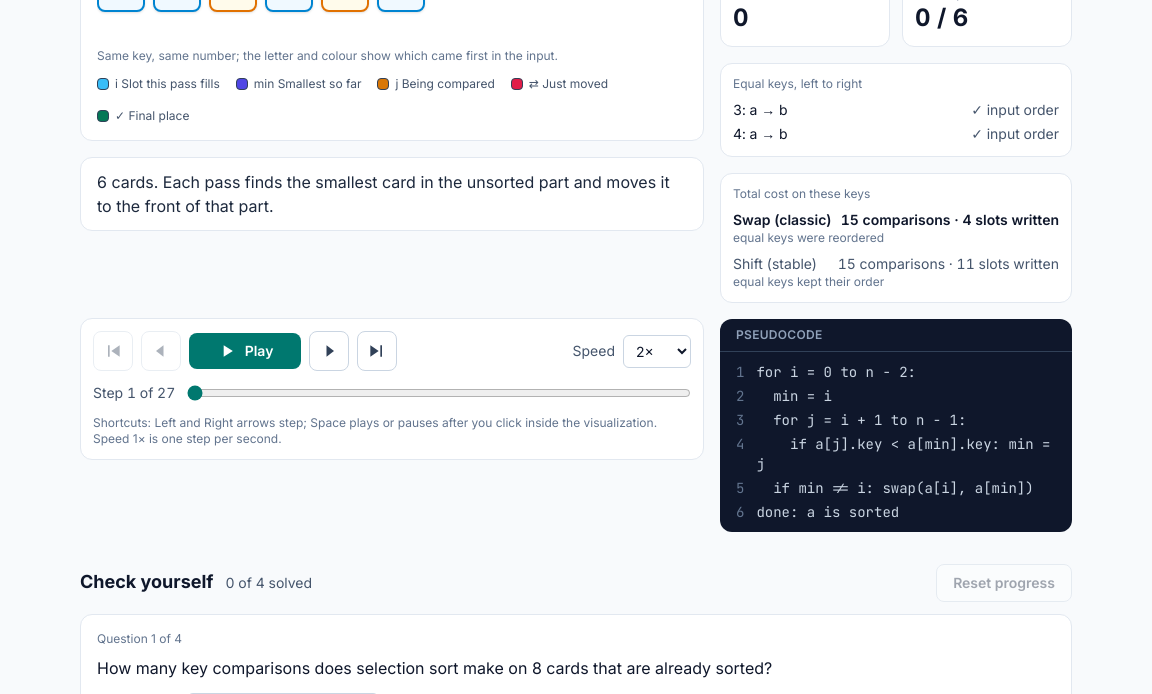
Test: selection sort and stability lesson › starts on the first pass and scans for the minimum
(page scrolled)
What coordinates should you click on to do the following:
click the button named "Next step"
I would click on:
 (329, 351)
Its box is [309, 331, 349, 371].
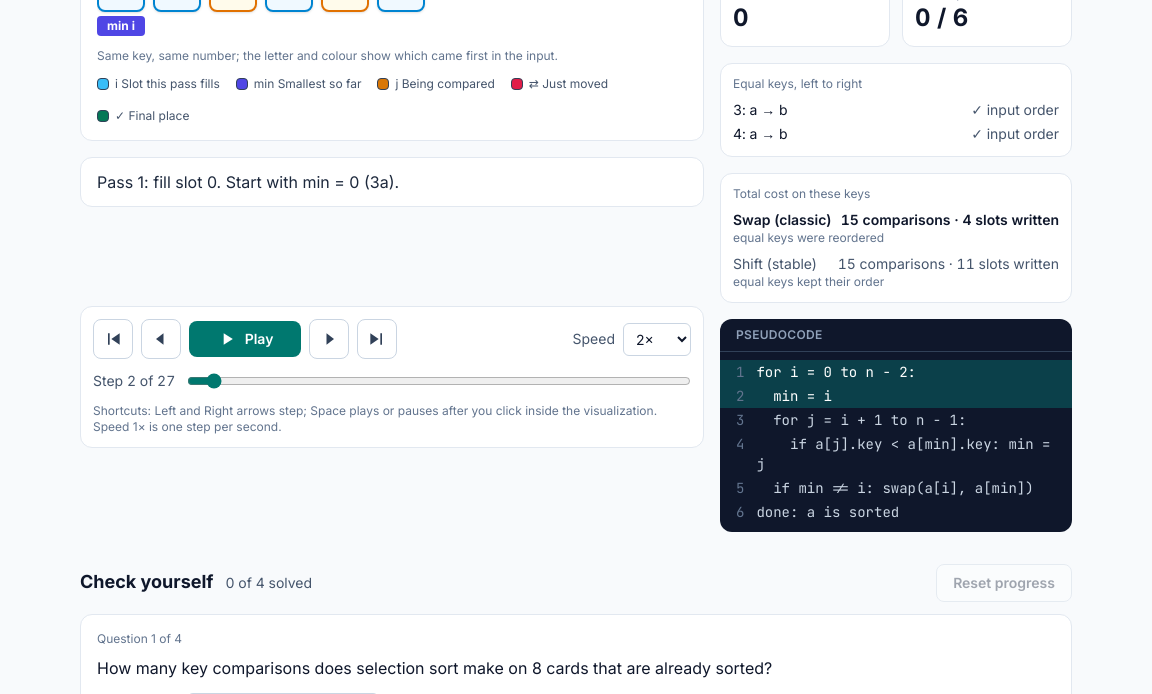
Expected: the text "Pass 1: fill slot 0. Start with min = 0 (3a)." is shown, [80, 157, 704, 207]
What coordinates should you click on to do the following:
click the button named "Next step"
I would click on:
 (329, 339)
Its box is [309, 319, 349, 359].
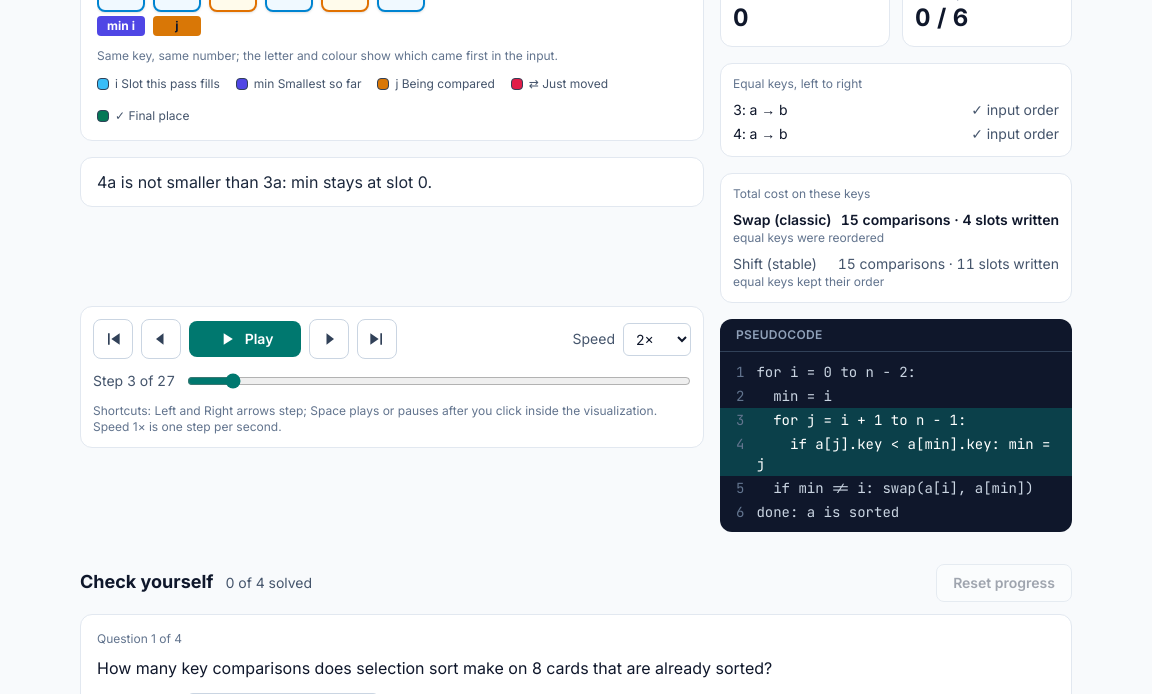
Expected: the text "4a is not smaller than 3a: min stays at slot 0." is shown, [80, 157, 704, 207]
What coordinates should you click on to do the following:
click the button named "Next step"
I would click on:
 (329, 339)
Its box is [309, 319, 349, 359].
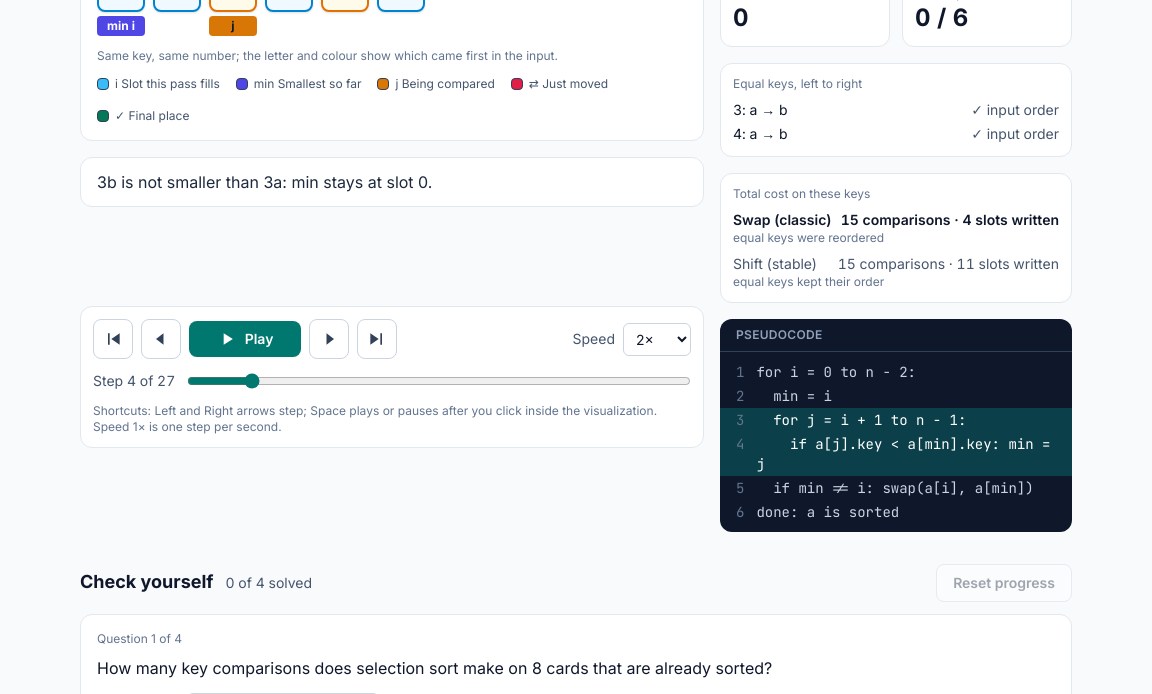
What coordinates should you click on to do the following:
click the button named "Next step"
I would click on:
 (329, 339)
Its box is [309, 319, 349, 359].
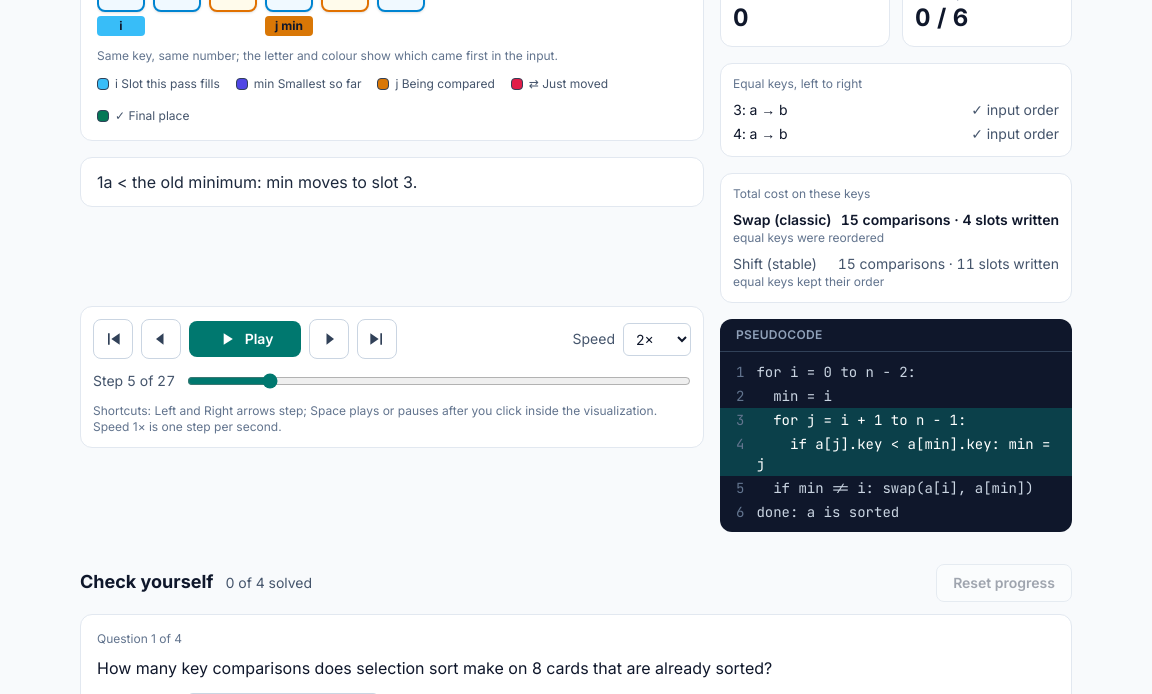
Expected: the text "1a < the old minimum: min moves to slot 3." is shown, [80, 157, 704, 207]
